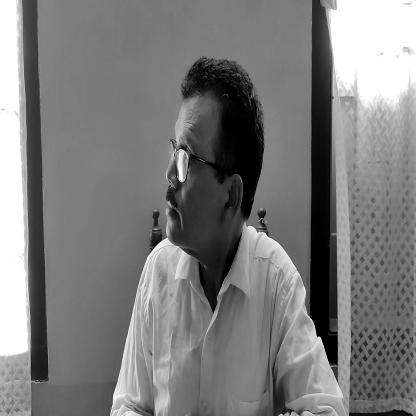Distracted: (165, 65, 265, 262)
